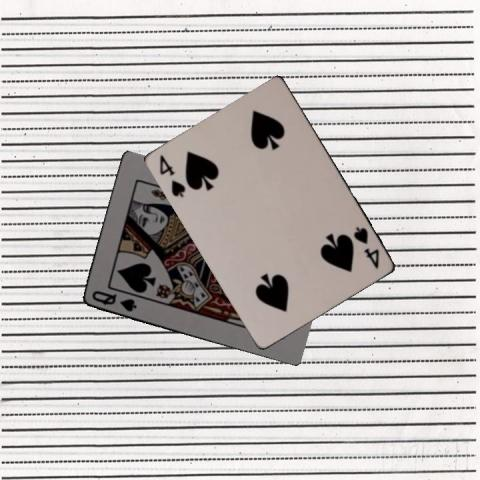4s: (157, 152, 188, 199), (351, 223, 381, 270)
Qs: (88, 288, 138, 314)
